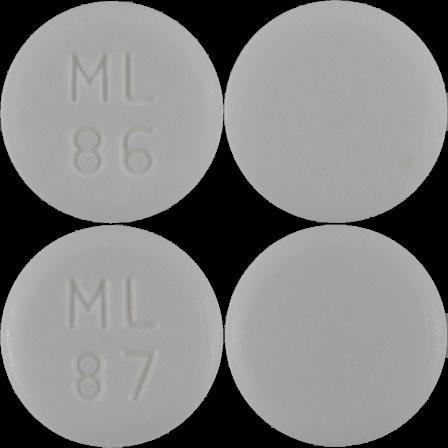33342-054: (0, 0, 224, 224)
